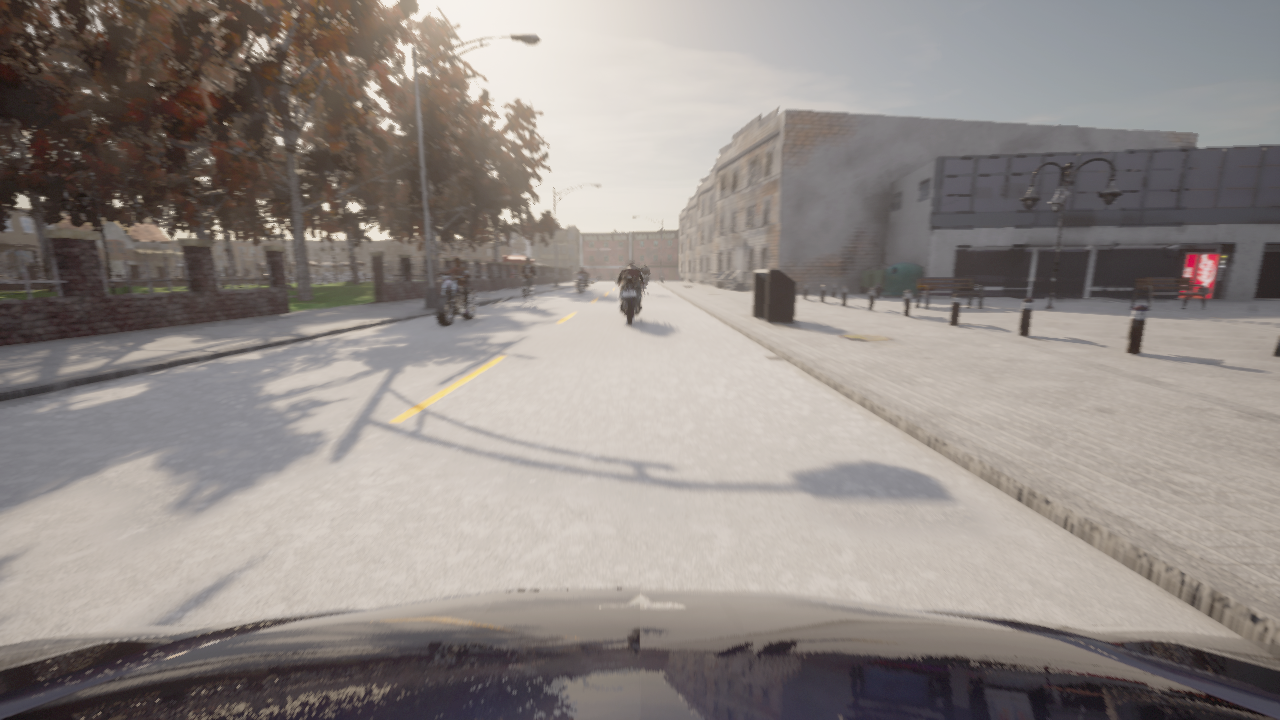cyclist: (0, 588, 1279, 719), (436, 270, 477, 326), (615, 274, 647, 324), (522, 277, 533, 308), (575, 272, 586, 293), (584, 273, 588, 289), (644, 284, 645, 289)
